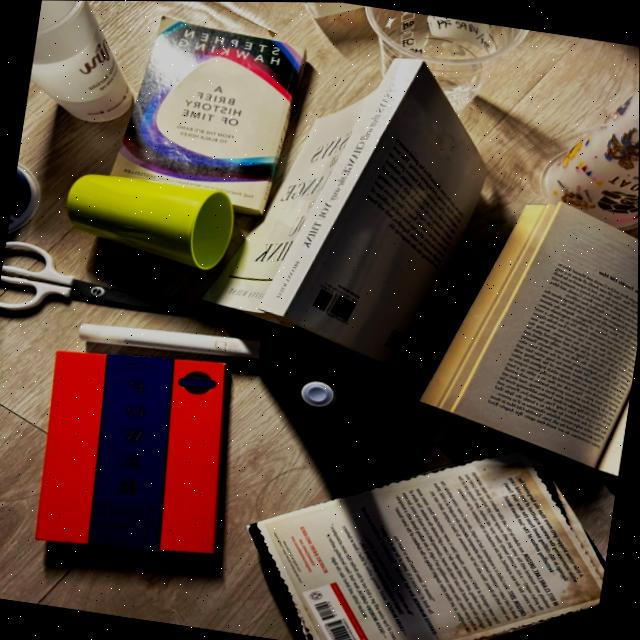Book: (199, 54, 489, 368), (250, 450, 605, 640), (422, 201, 639, 462), (37, 351, 228, 554), (113, 21, 305, 216)
HighLight Pen: (80, 324, 262, 359), (302, 381, 337, 407)
Plastic Cup: (366, 5, 528, 110), (541, 89, 640, 230), (31, 0, 134, 122), (8, 165, 40, 234)
Scissors: (0, 241, 195, 314)
WaterGlass: (67, 174, 235, 270)
